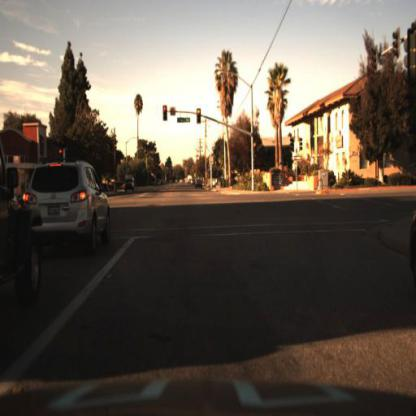car: (23, 158, 112, 255), (37, 154, 112, 264), (1, 137, 39, 314), (122, 170, 140, 199), (123, 176, 137, 196)
trafficLight-Red: (252, 140, 259, 158), (195, 106, 204, 119), (252, 138, 259, 152), (196, 107, 202, 123)
trafficLight-RedLeft: (162, 101, 170, 122), (55, 147, 65, 163), (161, 104, 170, 120)
